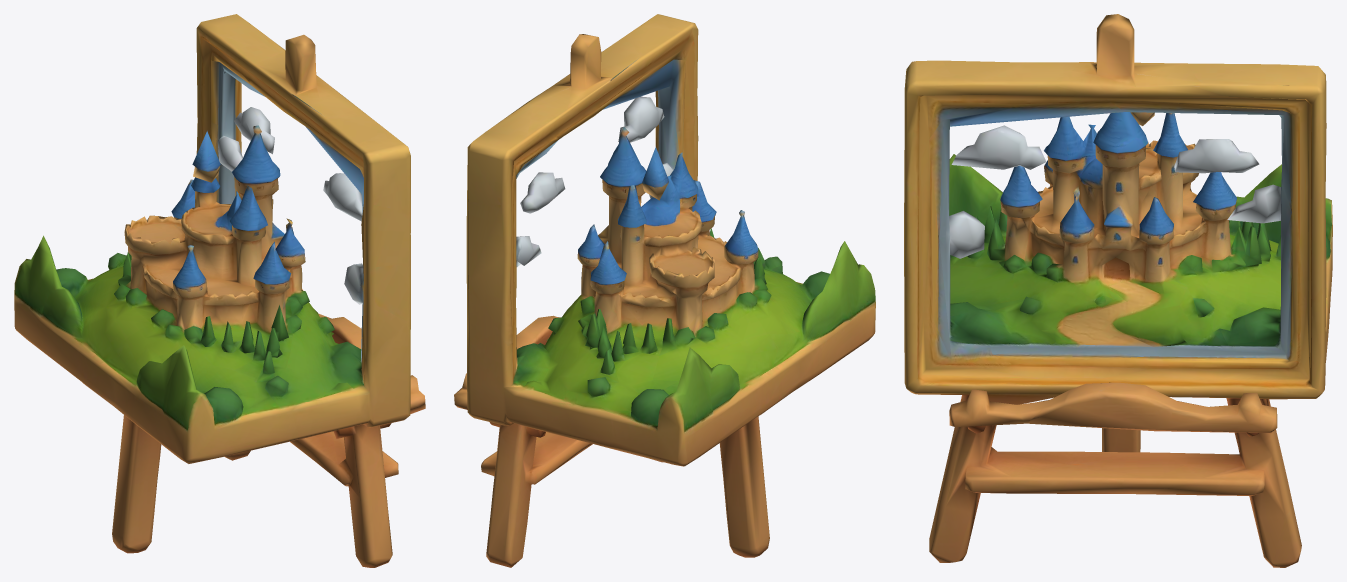
The model's file is painting_frame.glb.
The picture shows the model from 3 angles, left to right: view 1: azimuth 30°, elevation 25°; view 2: azimuth 150°, elevation 25°; view 3: azimuth 270°, elevation 25°; orthographic projection. The views are drawn at different scales.
Parts seen in each view (by area): view 1: tripo_node_8dcfa960-a0e0-4771-95e2-16481874e371; view 2: tripo_node_8dcfa960-a0e0-4771-95e2-16481874e371; view 3: tripo_node_8dcfa960-a0e0-4771-95e2-16481874e371.
Boxes of the visible parts, left/top/right/bottom form: tripo_node_8dcfa960-a0e0-4771-95e2-16481874e371: left=14, top=14, right=425, bottom=567; tripo_node_8dcfa960-a0e0-4771-95e2-16481874e371: left=454, top=14, right=875, bottom=567; tripo_node_8dcfa960-a0e0-4771-95e2-16481874e371: left=904, top=14, right=1332, bottom=567.
Bounding box in the file's own units: 0.3475 × 0.6 × 0.4288.
Materials: 1 (1 with a texture image).
